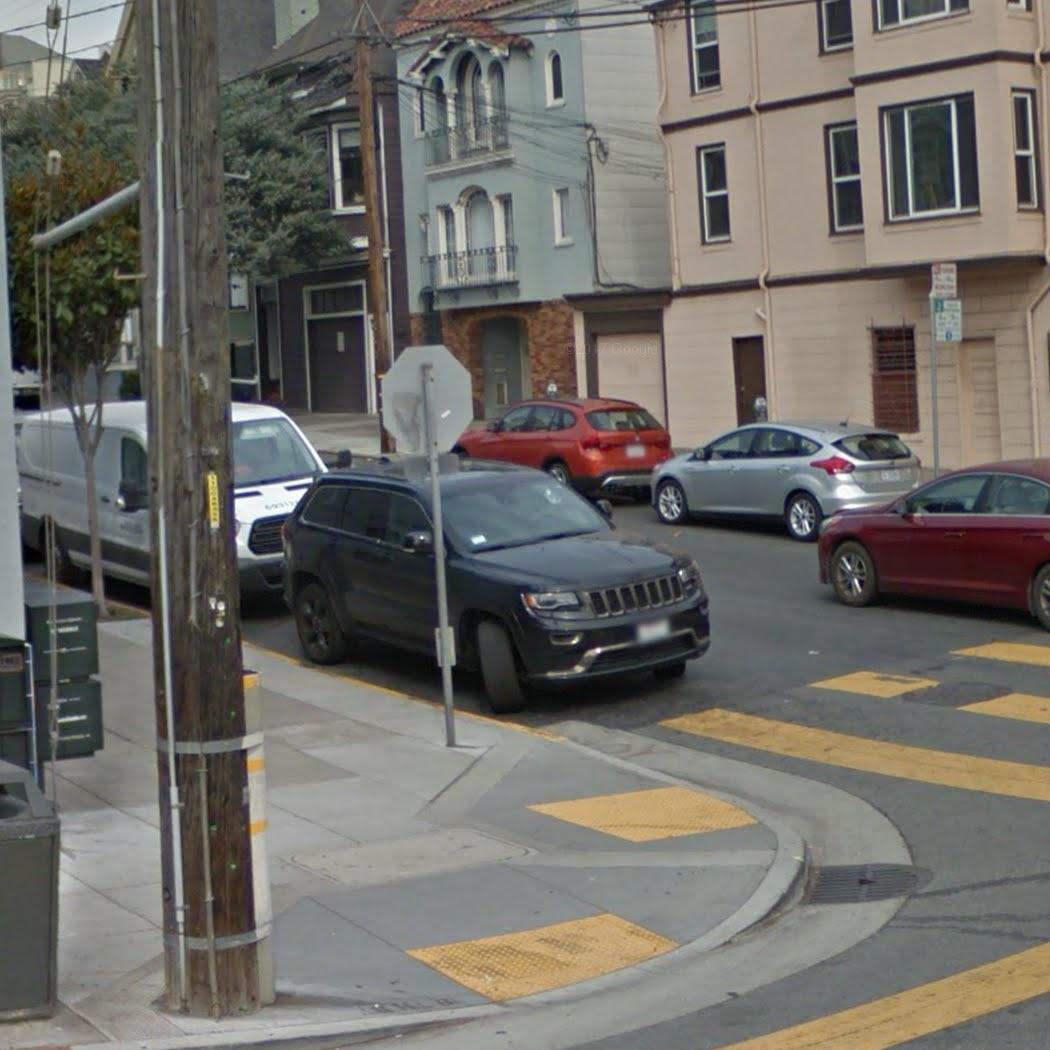2 Hour Parking: (930, 297, 964, 345)
No Parking: (930, 262, 959, 298)
